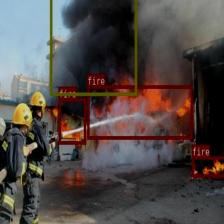fire: (87, 85, 192, 138), (58, 98, 86, 144), (191, 156, 224, 176)
smoke: (49, 0, 136, 94)
